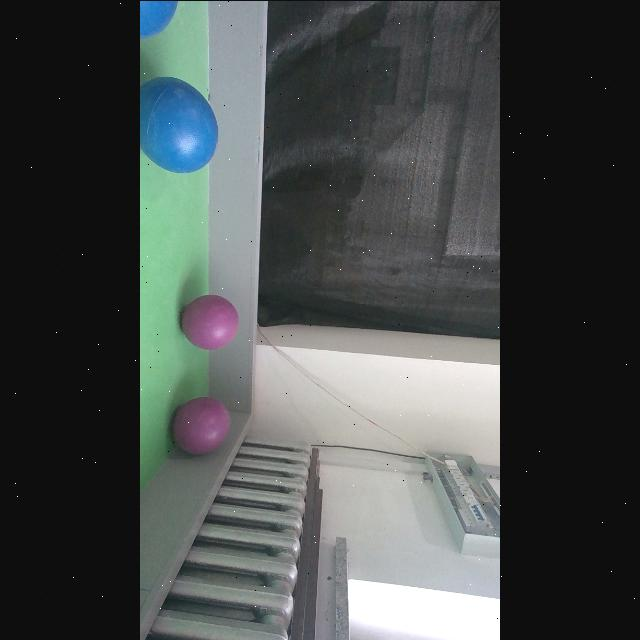B: (140, 74, 220, 174), (140, 0, 176, 40)
P: (171, 396, 231, 454), (181, 293, 239, 349)
